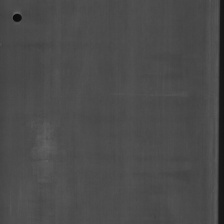punching_hole: (10, 9, 24, 25)
